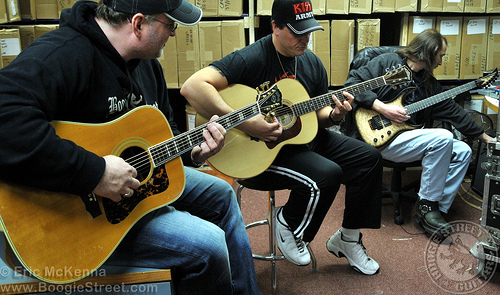guitar: (1, 85, 282, 287), (196, 63, 415, 178)
